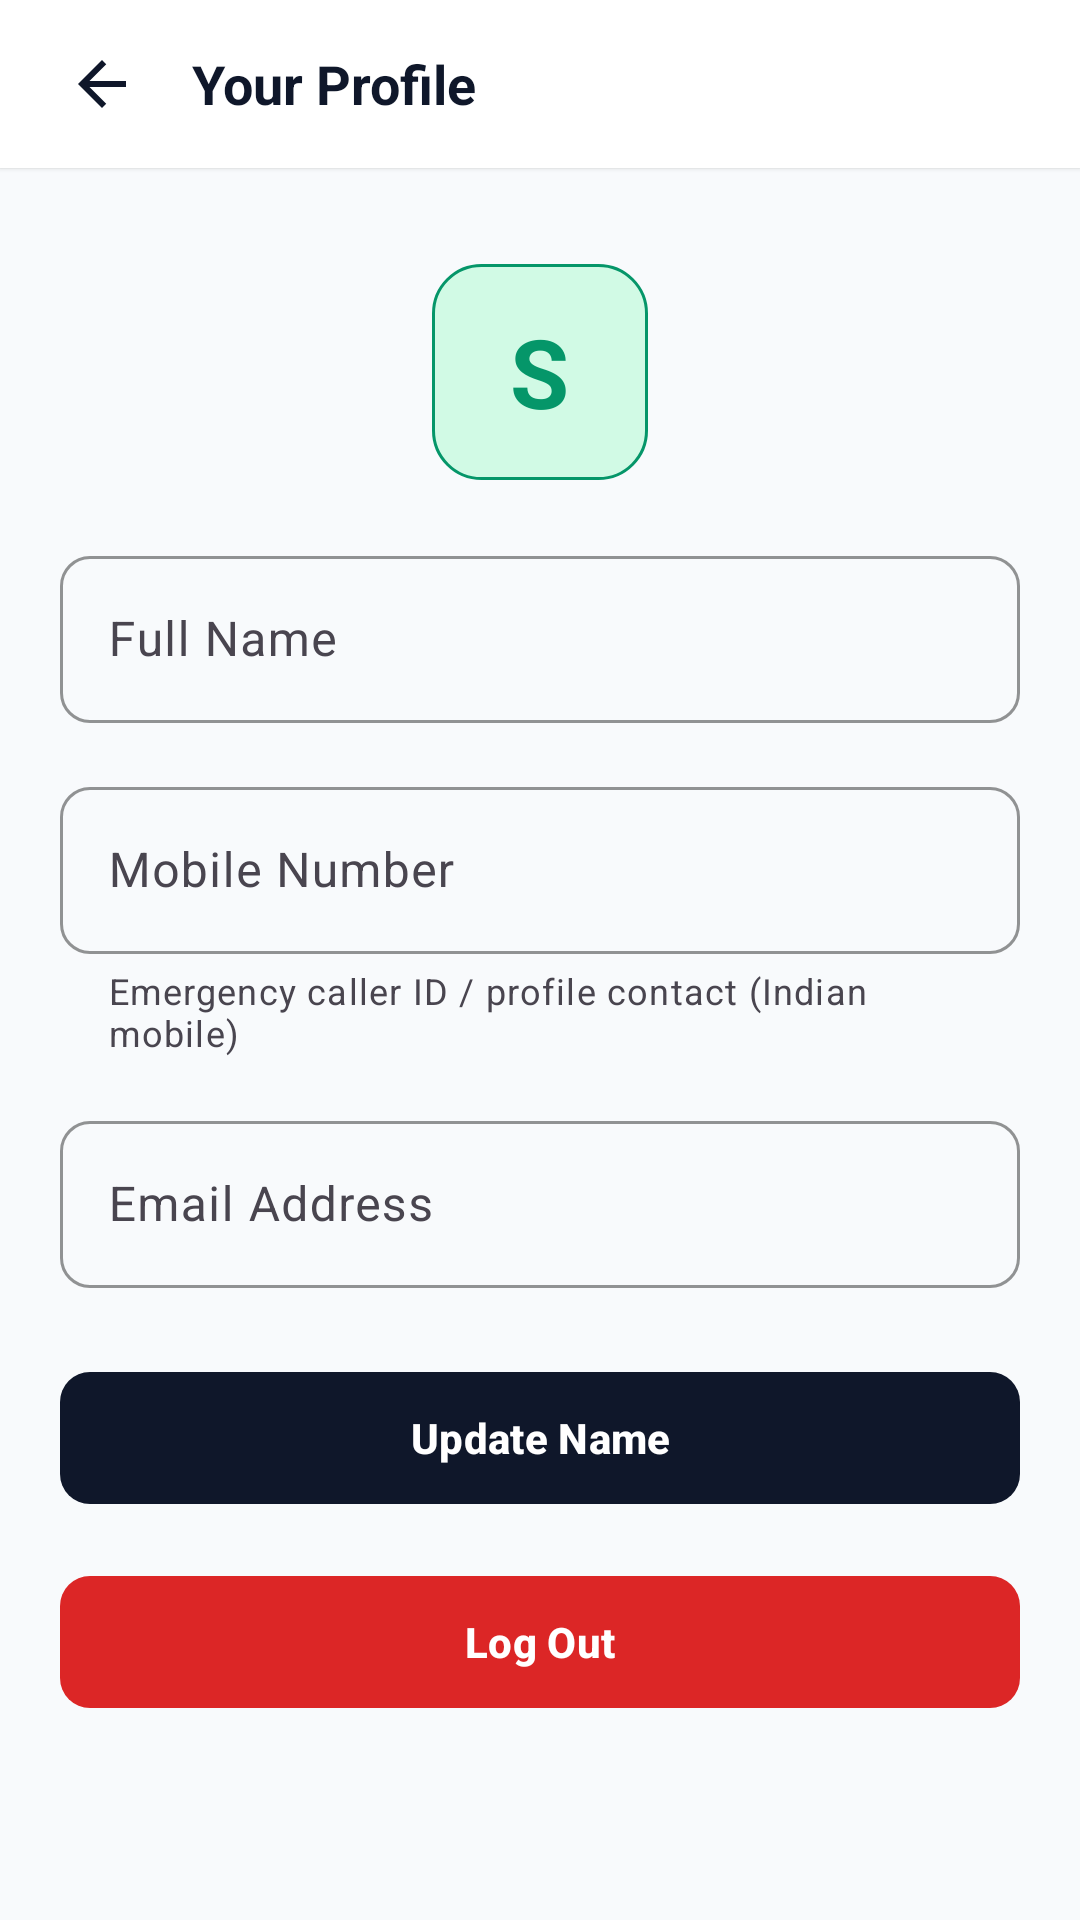

Locate icon controls on the screen. Image size 1080*1920, boxes as (x1, y1, x2, y2).
Back: (78, 60, 126, 108)
